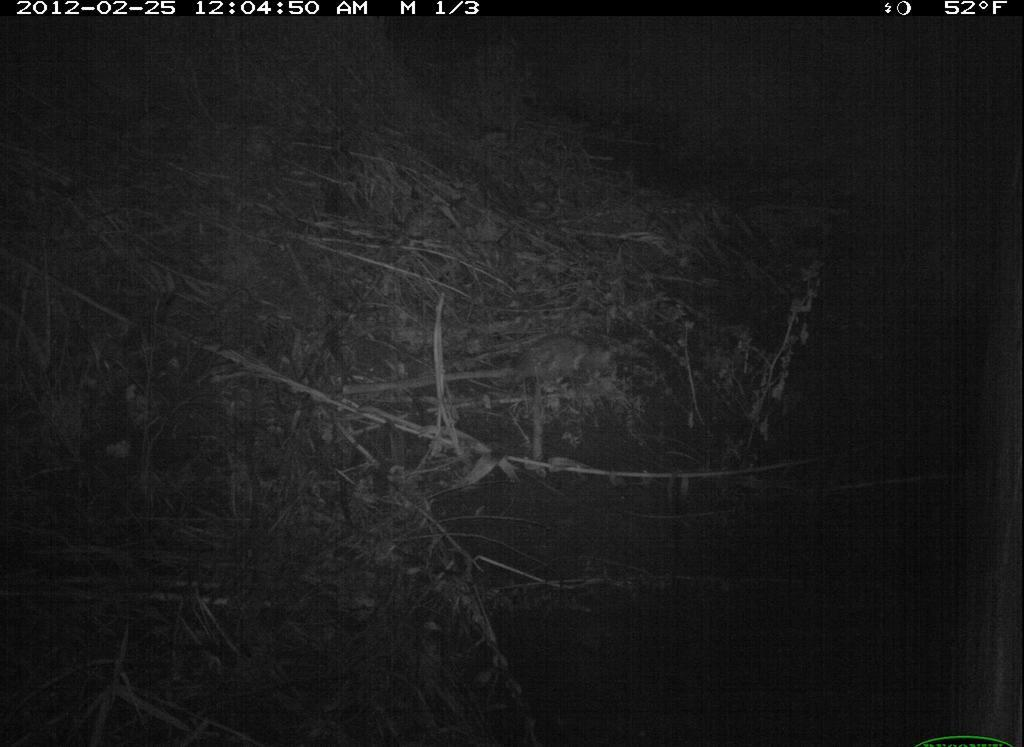opossum: (479, 328, 624, 411)
